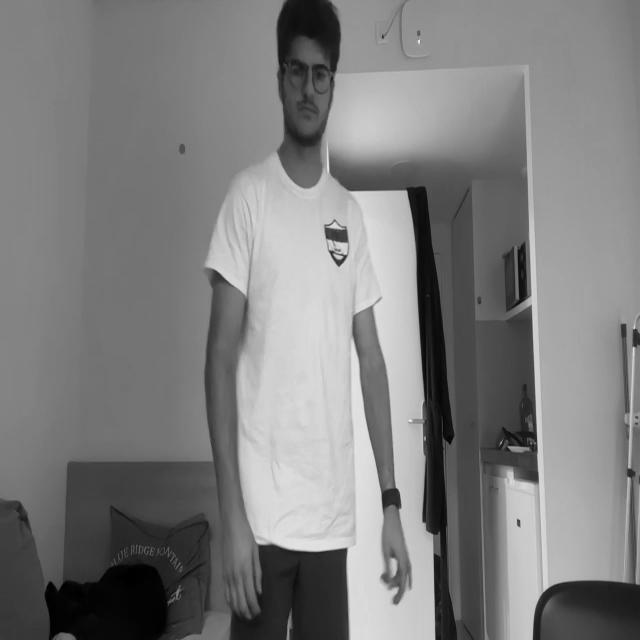elbow: (202, 348, 236, 391), (358, 350, 388, 388)
hand: (219, 516, 263, 621), (379, 500, 416, 606)
shoulder: (221, 174, 255, 248), (347, 192, 366, 260)
